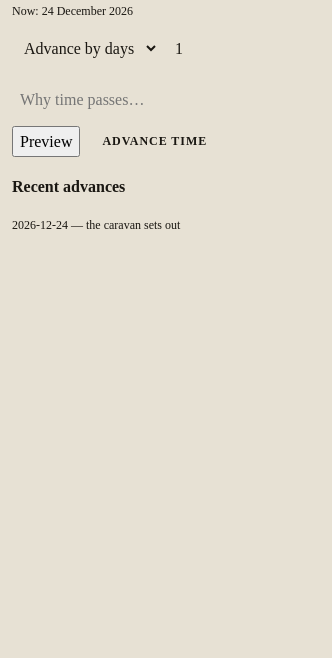
Test: a skip carries the token it was priced against
Type "a week off" into the field named "Reason" at x=120, y=100, box top-left (12, 86), bottom-right (228, 114)
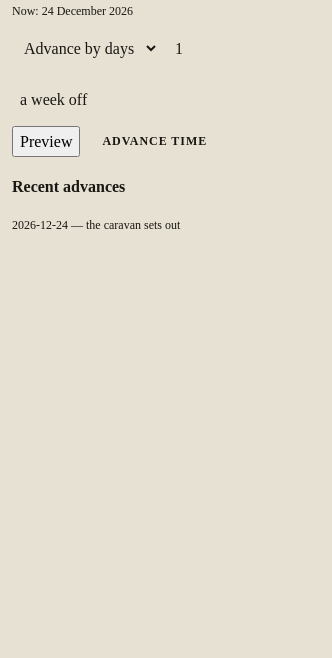
Click the button "Advance time" at x=155, y=142, box top-left (88, 126), bottom-right (221, 157)
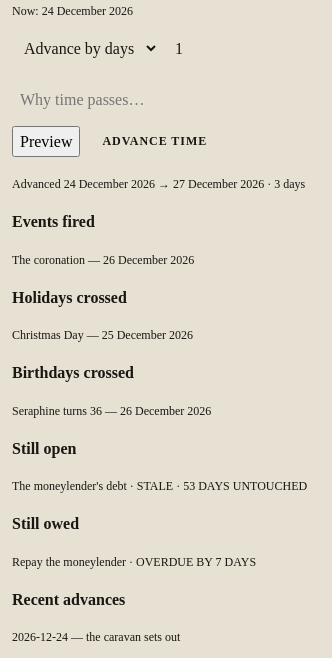
Expected: the text "Advanced 24 December 2026 → 27 December 2026 · 3 days" is shown, top-left (12, 177), bottom-right (305, 191)
